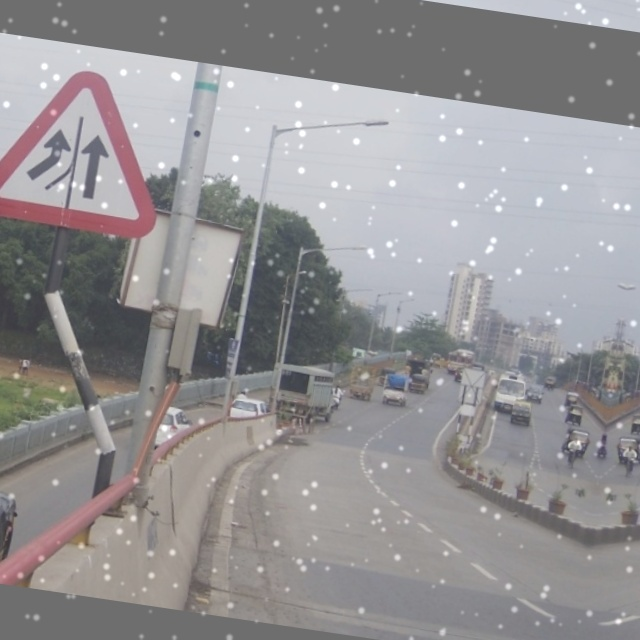Merge_Traffic_Ahead: (2, 69, 173, 242)
